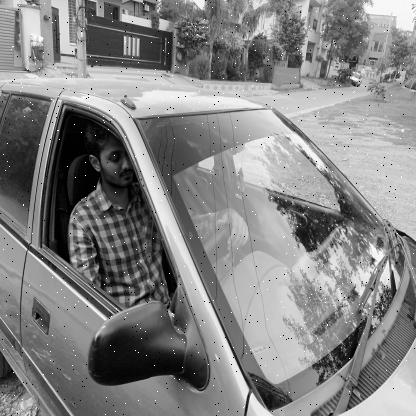no_seatbelt: (78, 126, 160, 294)
